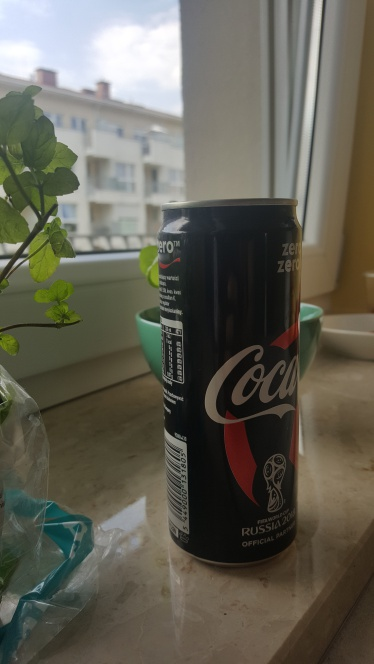colazero: (156, 194, 305, 578)
